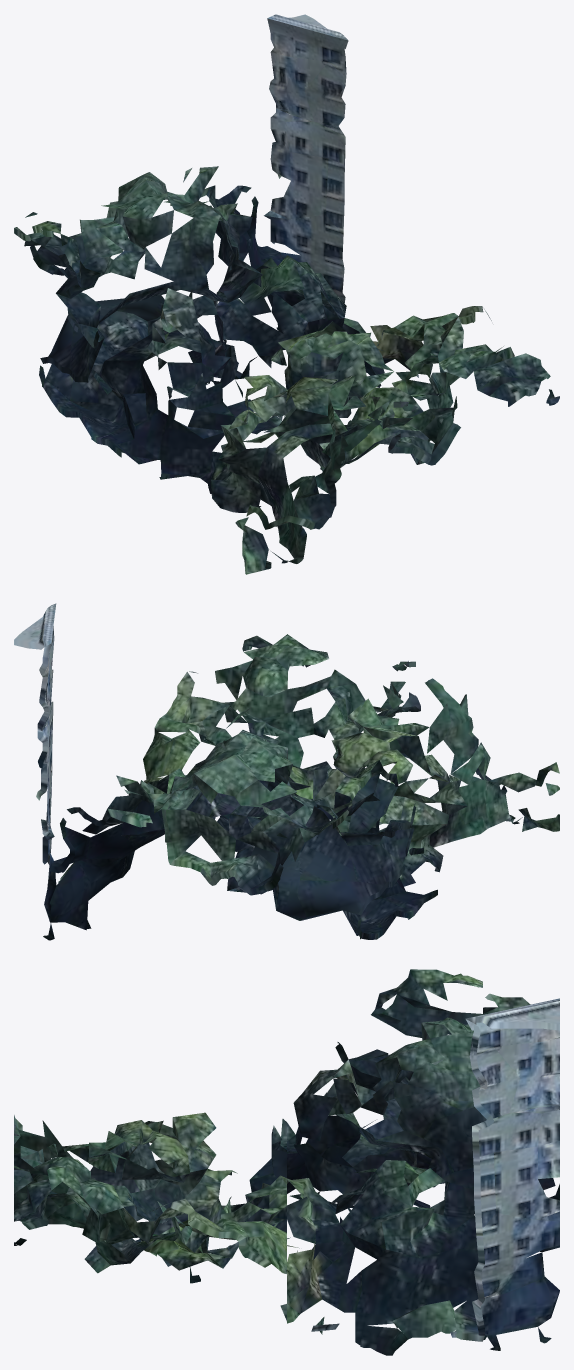
3 renders of one model, top to bottom at view 1: azimuth 30°, elevation 25°; view 2: azimuth 150°, elevation 25°; view 3: azimuth 270°, elevation 25°, orthographic. The views are drawn at different scales.
Visible parts, largest first — view 1: 30436272704361437424_0; view 2: 30436272704361437424_0; view 3: 30436272704361437424_0.
Part boxes in pixels (<box>): 30436272704361437424_0: <box>14,14,559,574</box>; 30436272704361437424_0: <box>14,603,559,940</box>; 30436272704361437424_0: <box>14,969,559,1355</box>.
Bounding box in the file's own units: 27.77 × 26.35 × 38.26.
1 material, 1 textured.
